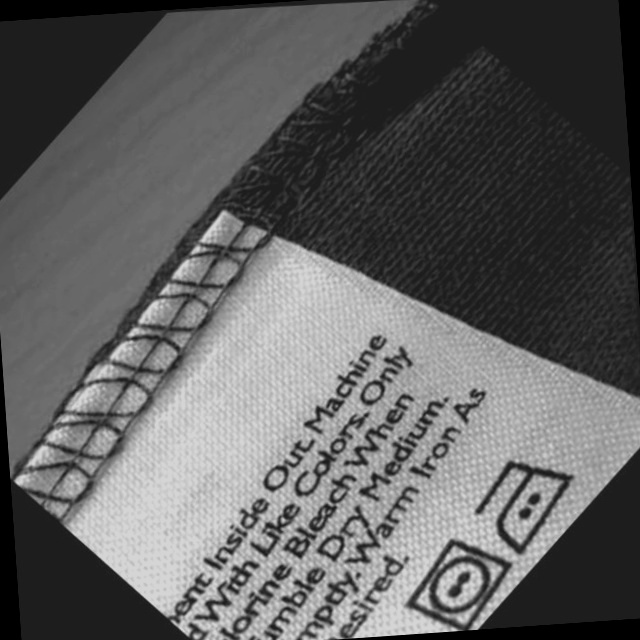iron_medium: (473, 454, 585, 555)
tumble_dry_medium: (404, 536, 519, 633)
